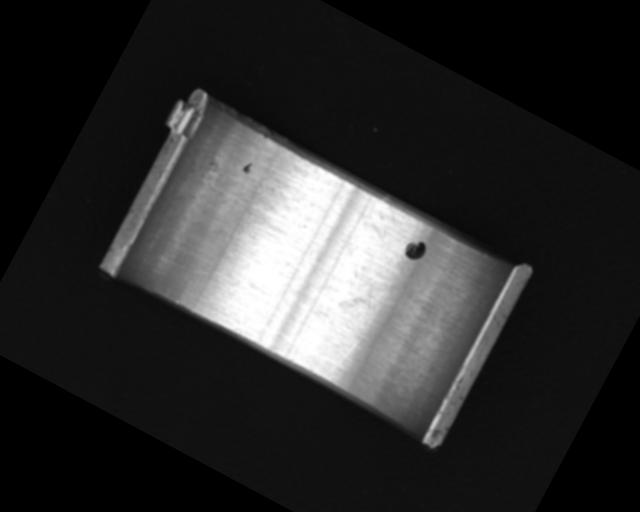blot: (333, 263, 401, 334), (401, 234, 430, 264)
bruise: (239, 159, 255, 177)
nick: (325, 335, 359, 380)
